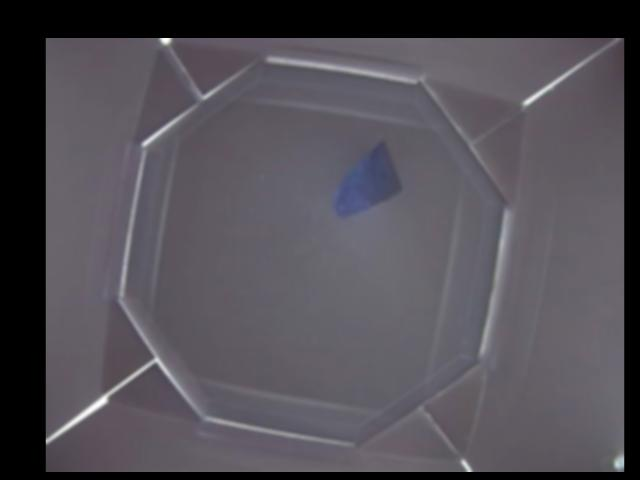Mooli: (335, 141, 398, 221)
